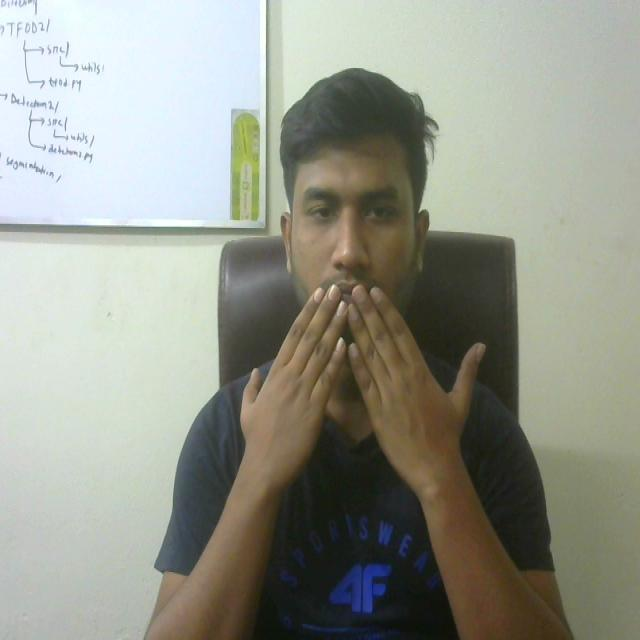Thanks: (224, 272, 493, 484)
